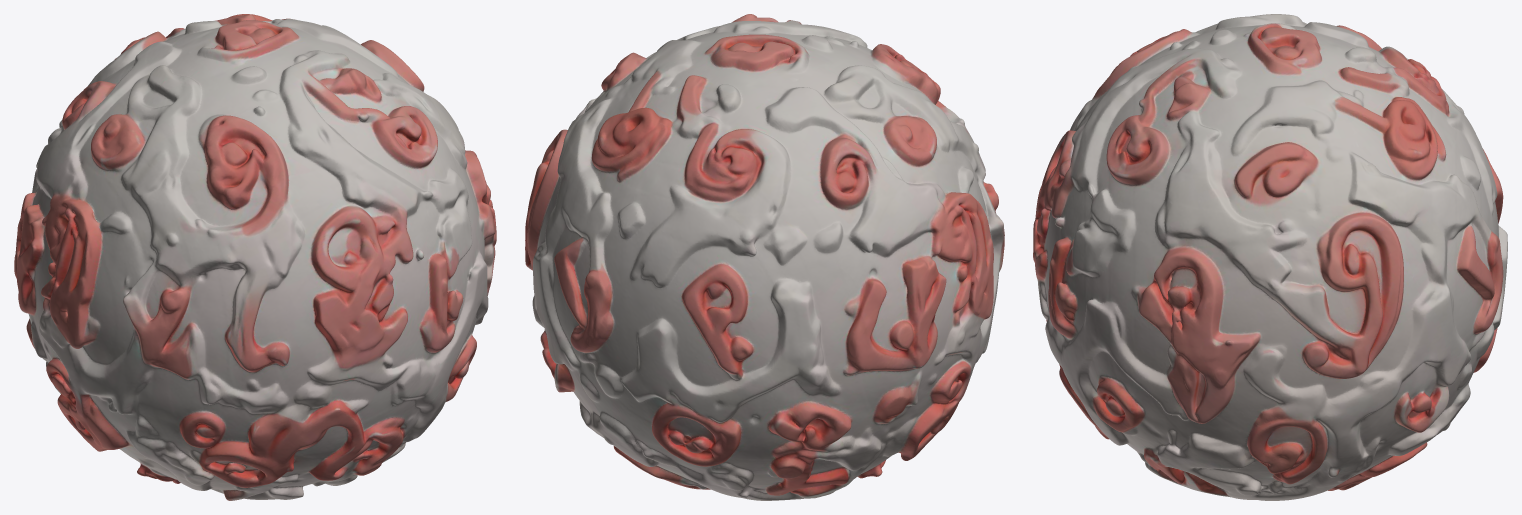
The model's file is detailed_realistic_model_test_01.glb.
The picture shows the model from 3 angles, left to right: view 1: azimuth 30°, elevation 25°; view 2: azimuth 150°, elevation 25°; view 3: azimuth 270°, elevation 25°; orthographic projection.
Parts seen in each view (by area): view 1: tripo_node_3e51c2ac-801e-4237-8ee6-1163cb4ffeb9; view 2: tripo_node_3e51c2ac-801e-4237-8ee6-1163cb4ffeb9; view 3: tripo_node_3e51c2ac-801e-4237-8ee6-1163cb4ffeb9.
Boxes of the visible parts, x1=… form: tripo_node_3e51c2ac-801e-4237-8ee6-1163cb4ffeb9: x1=14, y1=14, x2=496, y2=500; tripo_node_3e51c2ac-801e-4237-8ee6-1163cb4ffeb9: x1=525, y1=14, x2=1004, y2=500; tripo_node_3e51c2ac-801e-4237-8ee6-1163cb4ffeb9: x1=1033, y1=14, x2=1507, y2=500.
Size of the model in its own units: 0.9981 by 1 by 0.9928.
1 material, 1 textured.
